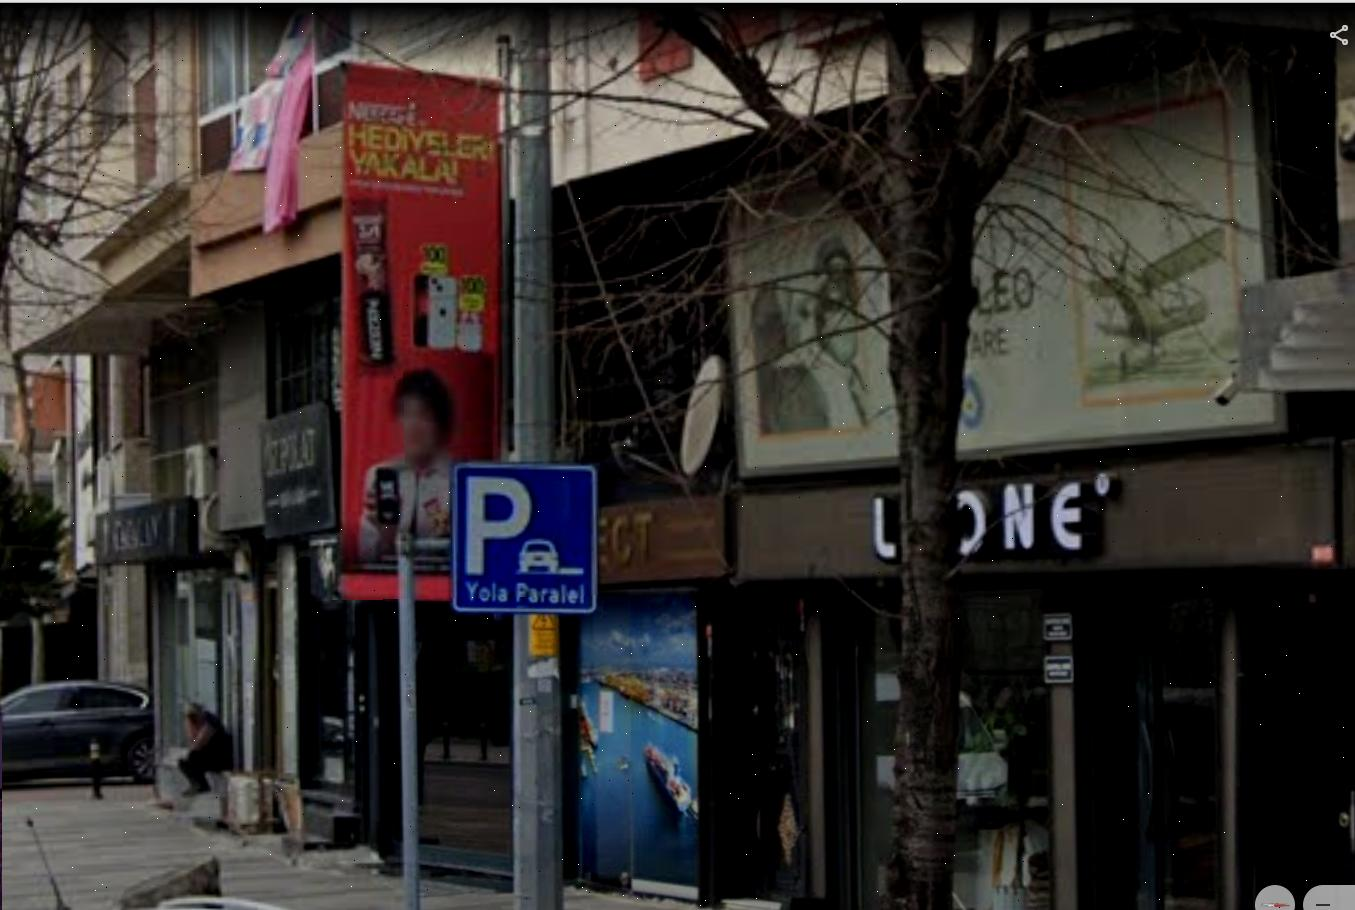park: (455, 465, 590, 578)
